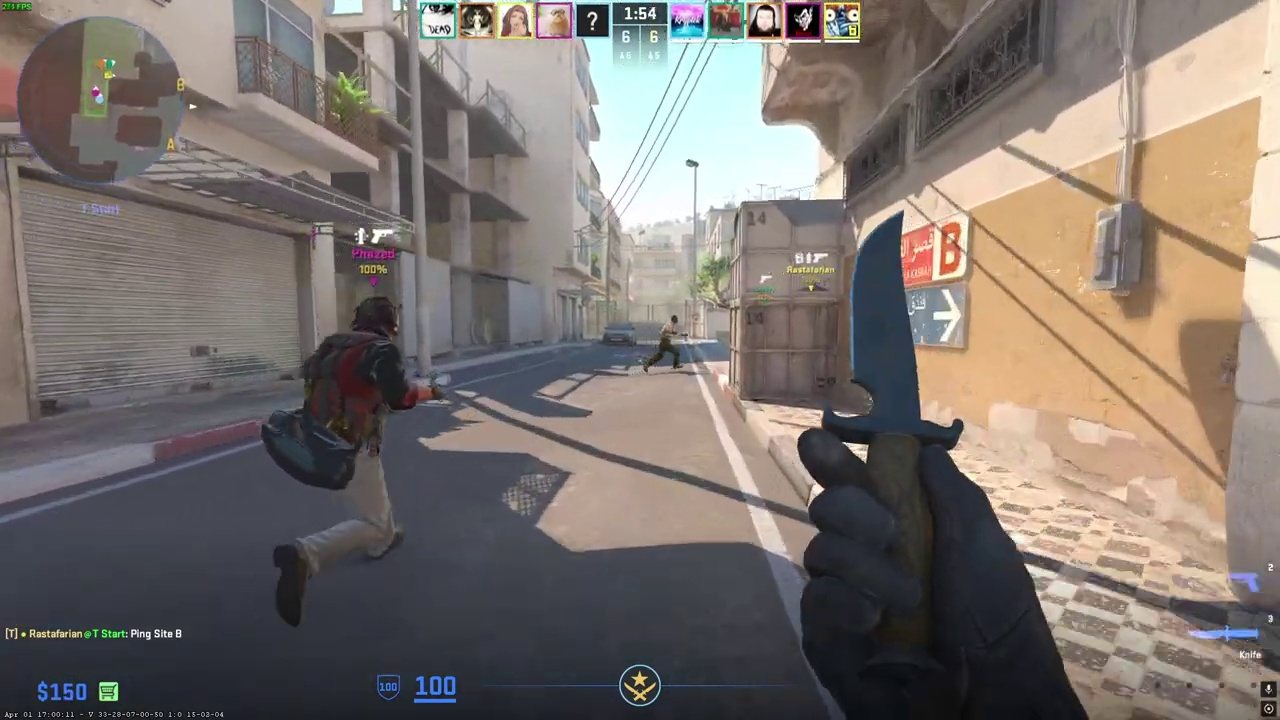Terrorist: (278, 296, 411, 628), (649, 315, 685, 369)
